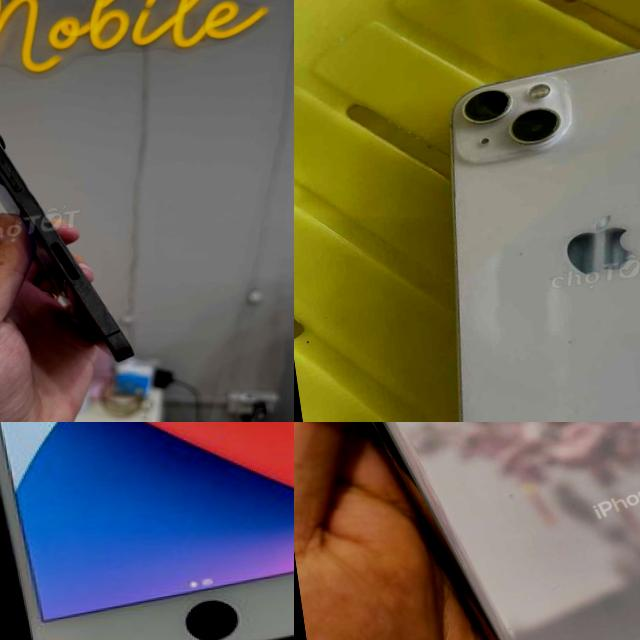scratch: (482, 614, 640, 640), (497, 479, 536, 516)
screen_defect: (155, 570, 270, 640)
